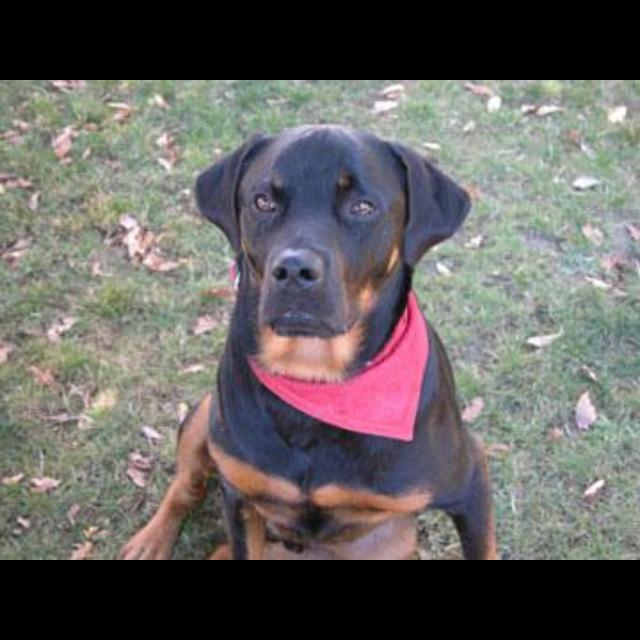rottweiler: (115, 123, 507, 560)
